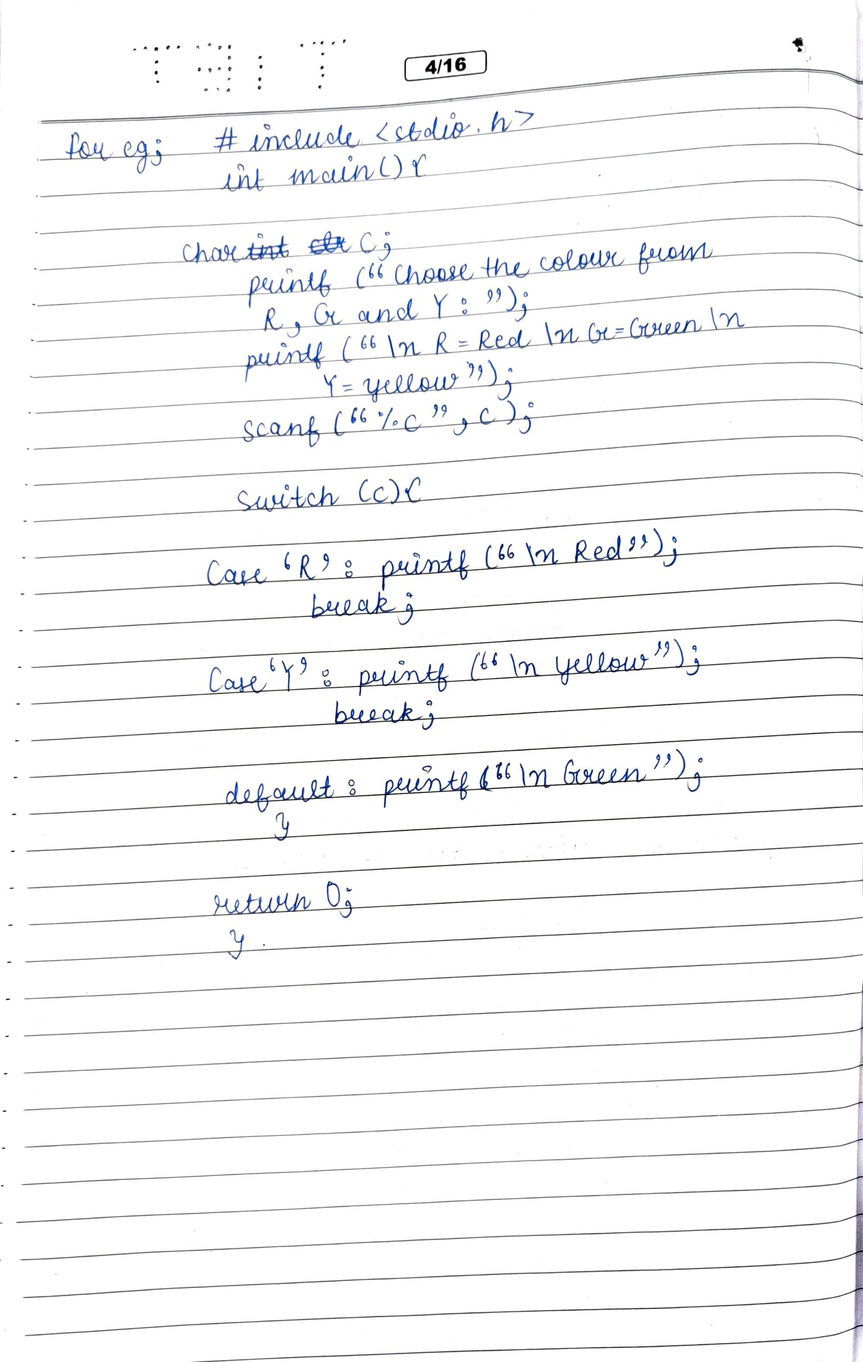cuttings: (243, 233, 290, 262), (307, 230, 354, 255)
